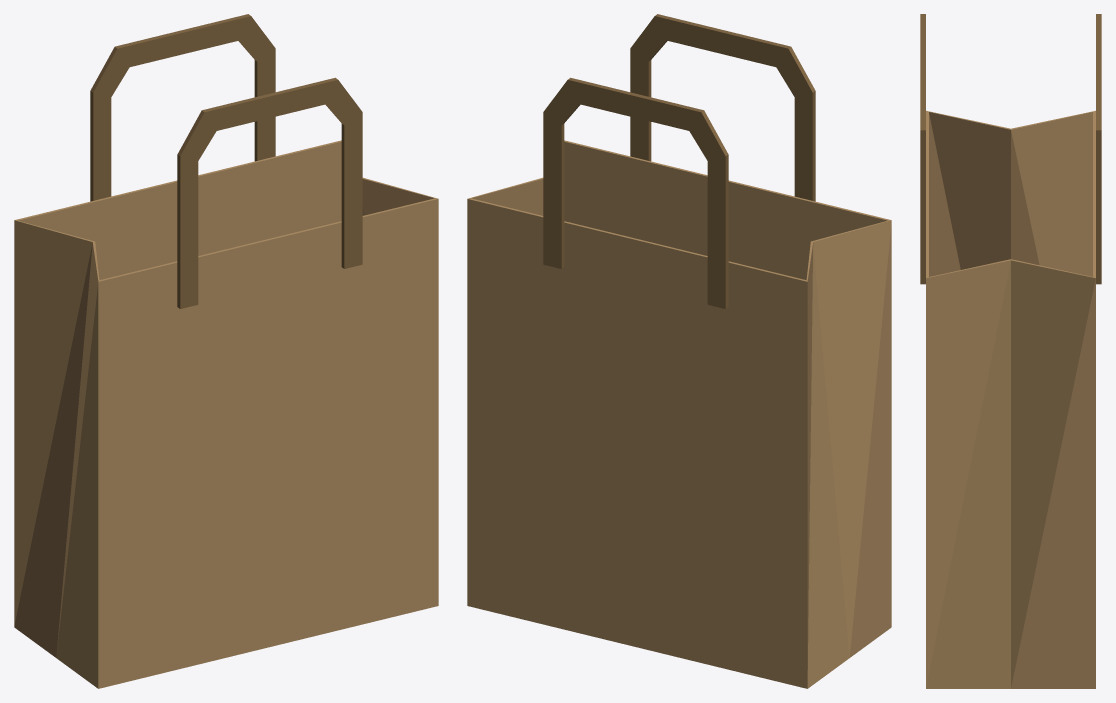
3 views of the same model, side by side, from view 1: azimuth 30°, elevation 25°; view 2: azimuth 150°, elevation 25°; view 3: azimuth 270°, elevation 25° (orthographic).
Parts seen in each view (by area): view 1: ContinuousBottomedPaperBodyWithInwardSideGussets, FrontFlatOpenUStrap, BackFlatOpenUStrap; view 2: ContinuousBottomedPaperBodyWithInwardSideGussets, BackFlatOpenUStrap, FrontFlatOpenUStrap; view 3: ContinuousBottomedPaperBodyWithInwardSideGussets, BackFlatOpenUStrap, FrontFlatOpenUStrap.
Part boxes in pixels (x1,y1,x2,y2): ContinuousBottomedPaperBodyWithInwardSideGussets: (14,140,438,688); FrontFlatOpenUStrap: (177,77,362,308); BackFlatOpenUStrap: (90,14,275,201); ContinuousBottomedPaperBodyWithInwardSideGussets: (467,140,891,688); BackFlatOpenUStrap: (543,77,728,308); FrontFlatOpenUStrap: (630,14,815,201); ContinuousBottomedPaperBodyWithInwardSideGussets: (926,110,1095,688); BackFlatOpenUStrap: (1096,14,1101,284); FrontFlatOpenUStrap: (920,14,925,284).
Bounding box in the file's own units: 0.28 × 0.435 × 0.128.
